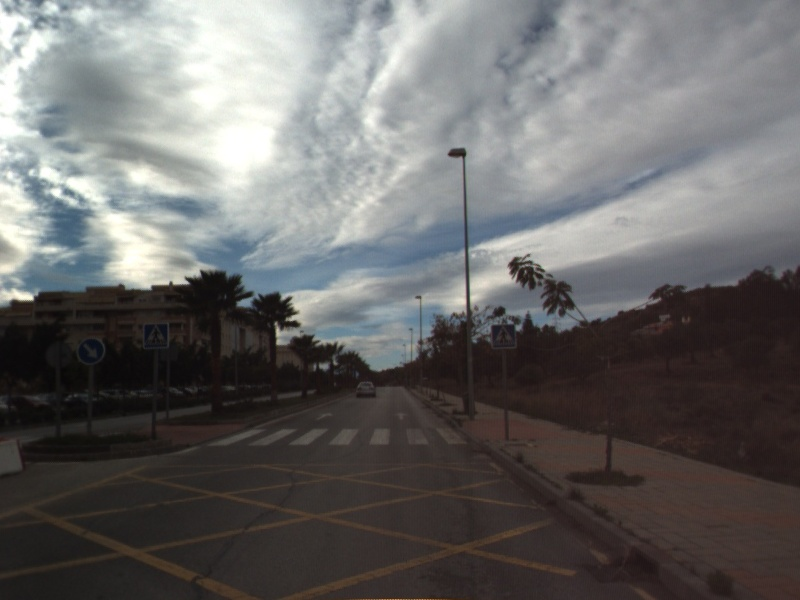STRAIGHT: (313, 410, 336, 422), (392, 410, 410, 422)
